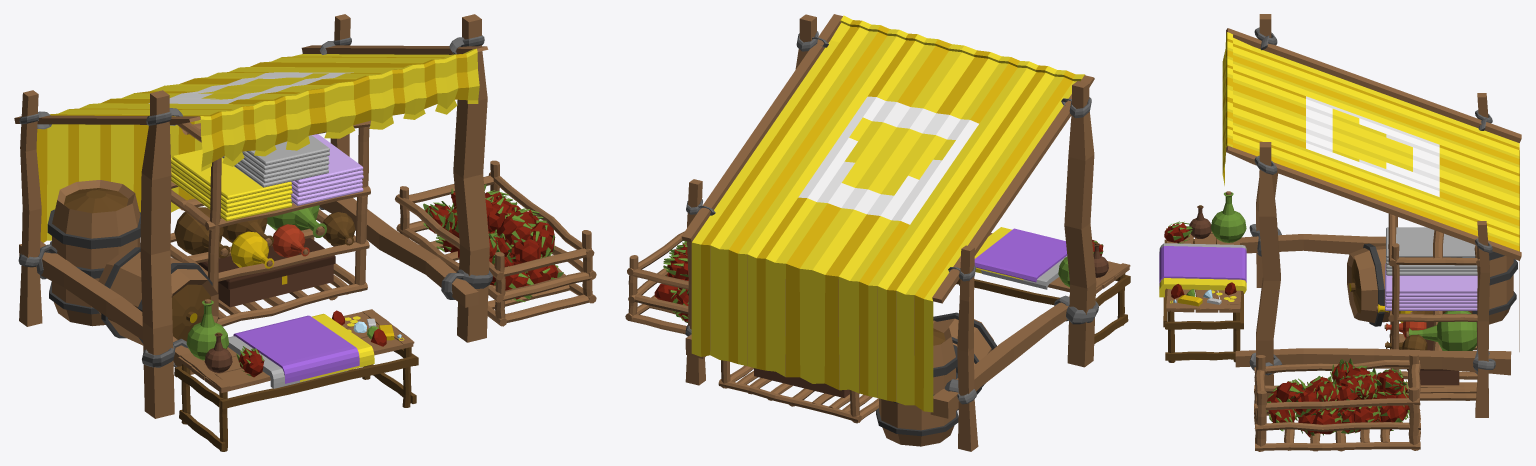
File: Building_LV3_OutdoorShop_Yellow.fbx
The picture shows the model from 3 angles, left to right: view 1: azimuth 30°, elevation 25°; view 2: azimuth 150°, elevation 25°; view 3: azimuth 270°, elevation 25°; orthographic projection. The views are drawn at different scales.
Parts seen in each view (by area): view 1: OutdoorShop_Yellow; view 2: OutdoorShop_Yellow; view 3: OutdoorShop_Yellow.
Part boxes in pixels (box(x1,y1,x2,y2)): OutdoorShop_Yellow: box(14, 14, 596, 451); OutdoorShop_Yellow: box(625, 14, 1130, 451); OutdoorShop_Yellow: box(1159, 14, 1521, 451).
Bounding box in the file's own units: 376 × 262 × 313.
13 materials, 13 textured.
